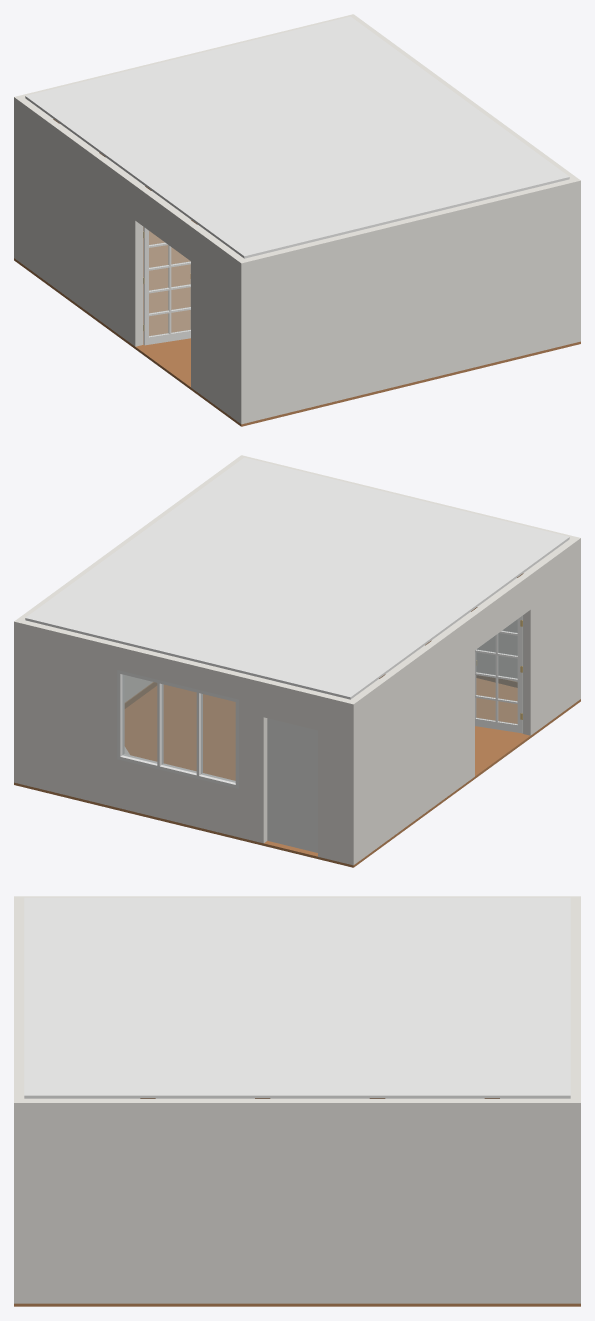
The picture shows the model from 3 angles, top to bottom: view 1: azimuth 30°, elevation 25°; view 2: azimuth 150°, elevation 25°; view 3: azimuth 270°, elevation 25°; orthographic projection. The views are drawn at different scales.
Parts seen in each view (by area): view 1: Ceiling, Wall_S, Wall_W, Floor, Door_French_N, Wall_E, Wall_N; view 2: Ceiling, Wall_N, Wall_W, Floor, Window, Door_Entry, Door_French_S, Wall_E, Wall_S; view 3: Wall_E, Ceiling, Floor, Wall_N, Wall_S, Wall_W.
Boxes of the visible parts, bbox=[...] form: Ceiling: bbox=[25, 16, 569, 258]; Wall_S: bbox=[245, 179, 573, 422]; Wall_W: bbox=[14, 95, 248, 424]; Floor: bbox=[14, 231, 580, 426]; Door_French_N: bbox=[143, 227, 190, 345]; Wall_E: bbox=[347, 14, 580, 342]; Wall_N: bbox=[21, 16, 347, 97]; Ceiling: bbox=[25, 457, 569, 699]; Wall_N: bbox=[21, 620, 349, 863]; Wall_W: bbox=[346, 536, 580, 865]; Floor: bbox=[14, 678, 580, 867]; Window: bbox=[117, 670, 238, 788]; Door_Entry: bbox=[267, 718, 317, 852]; Door_French_S: bbox=[475, 616, 522, 733]; Wall_E: bbox=[14, 455, 247, 784]; Wall_S: bbox=[247, 457, 573, 681]; Wall_E: bbox=[14, 1098, 580, 1303]; Ceiling: bbox=[24, 897, 570, 1098]; Floor: bbox=[14, 1303, 580, 1306]; Wall_N: bbox=[570, 900, 580, 1098]; Wall_S: bbox=[14, 900, 24, 1098]; Wall_W: bbox=[14, 896, 580, 900].
Size of the model in its own units: 5.73 by 2.67 by 6.64.
